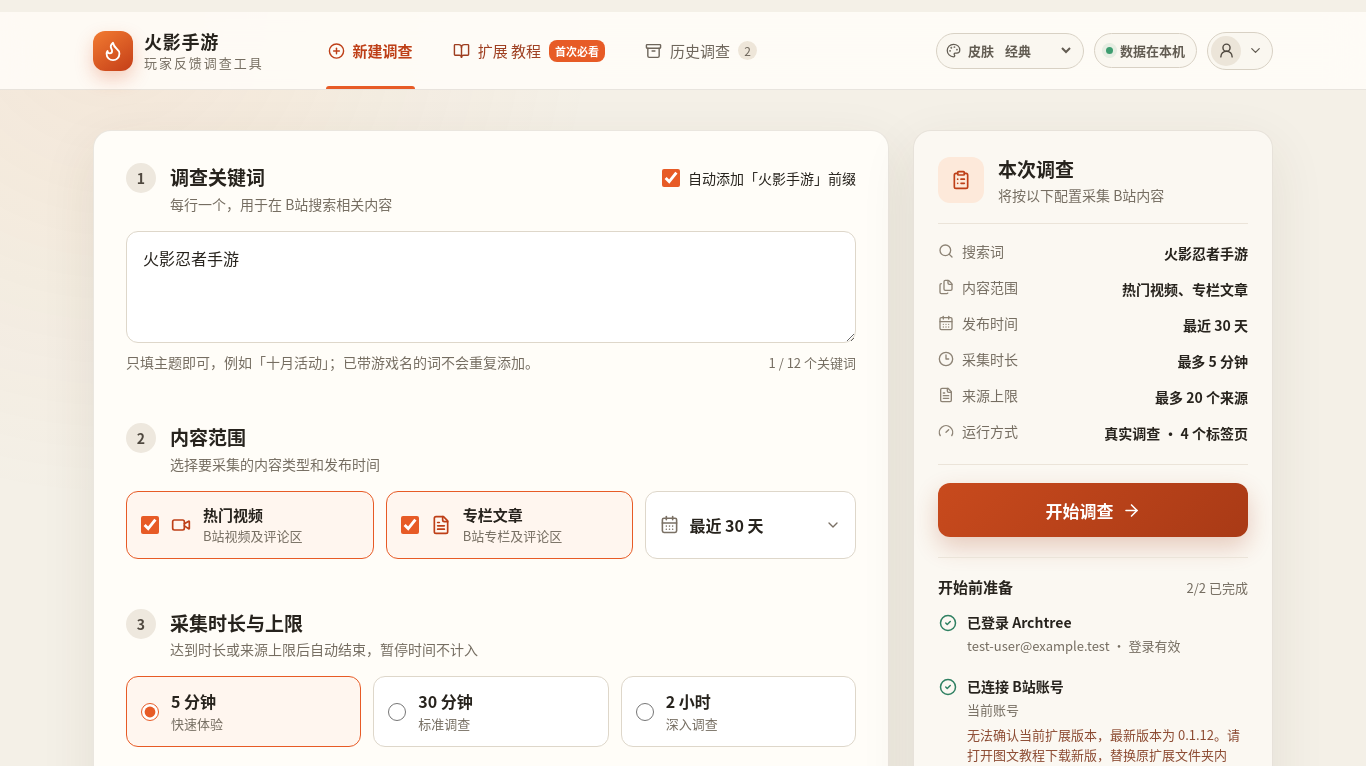
Test: browser history deletion › retains the record and history count when browser deletion fails
Click the button "历史调查 2": (701, 50) [625,12,777,89]
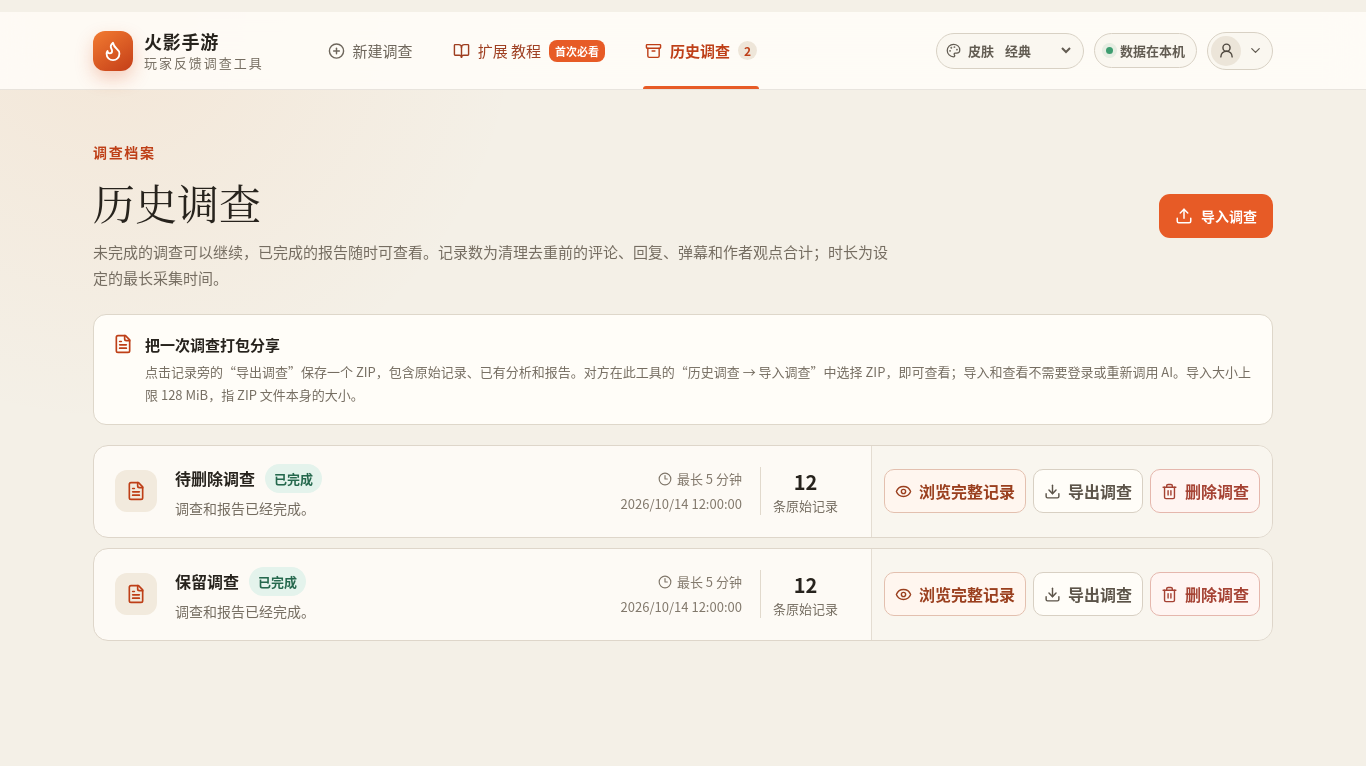
Check: the heading "历史调查" is shown, box [93,172,261,232]
Click the 1st button "删除调查": (1205, 491) [1150,469,1260,513]
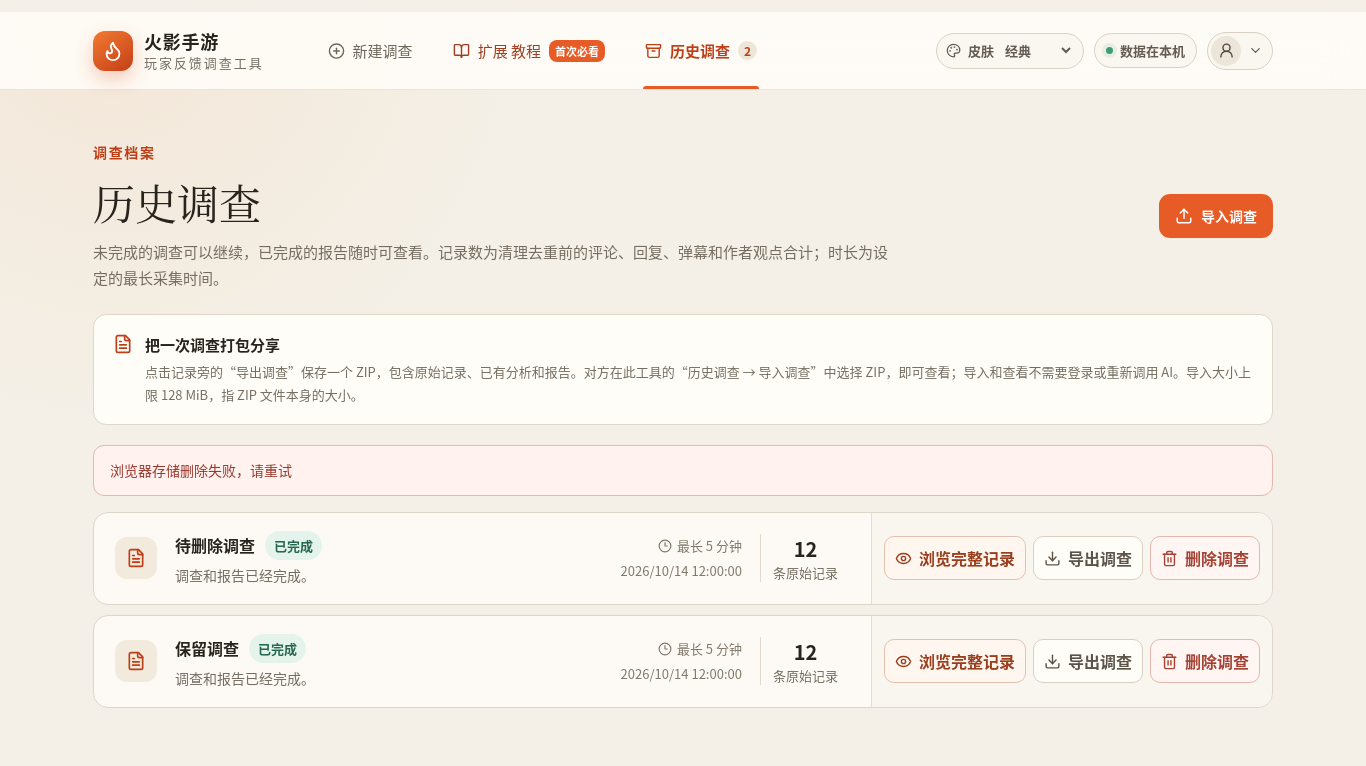
Check: the text "待删除调查" is shown, box [175,533,255,557]
Check: the text "保留调查" is shown, box [175,636,239,660]
Check: the message reads "浏览器存储删除失败，请重试", box [110,460,292,480]
